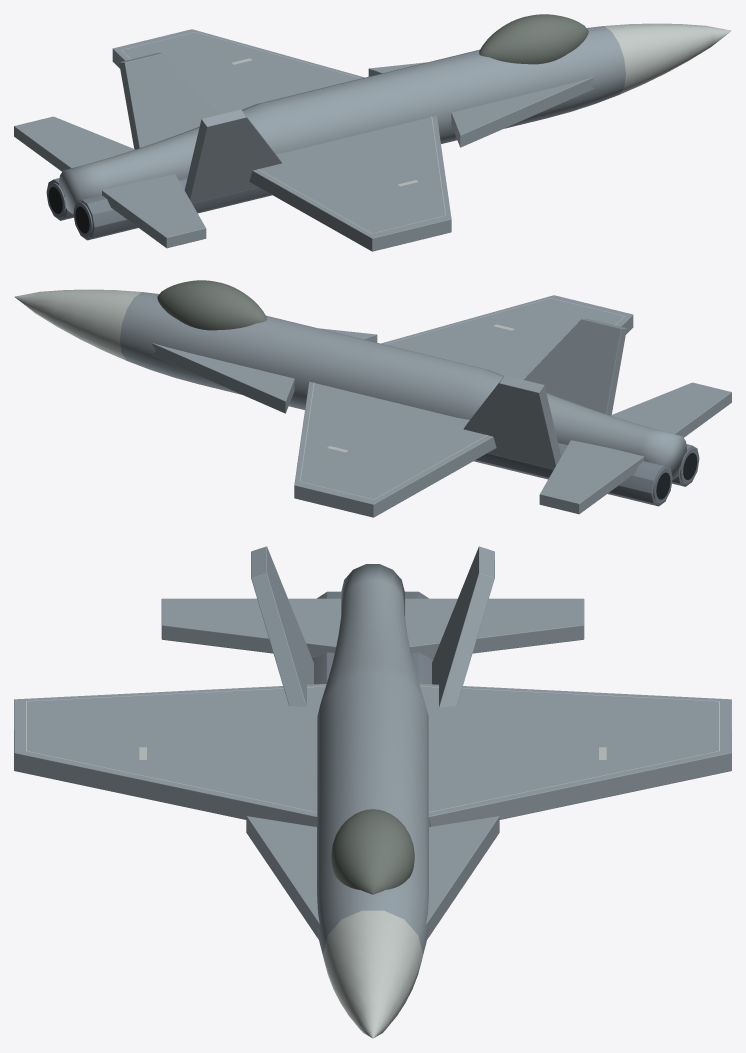
File: usn_uav_mq25.glb
3 renders of one model, top to bottom at view 1: azimuth 30°, elevation 25°; view 2: azimuth 150°, elevation 25°; view 3: azimuth 270°, elevation 25°, orthographic. The views are drawn at different scales.
Visible parts, largest first — view 1: usn_uav_mq25; view 2: usn_uav_mq25; view 3: usn_uav_mq25.
Part boxes in pixels (x1,y1,x2,y2): usn_uav_mq25: (14,14,731,251); usn_uav_mq25: (14,280,731,517); usn_uav_mq25: (14,546,731,1038).
Size of the model in its own units: 10 by 1.67 by 6.79.
